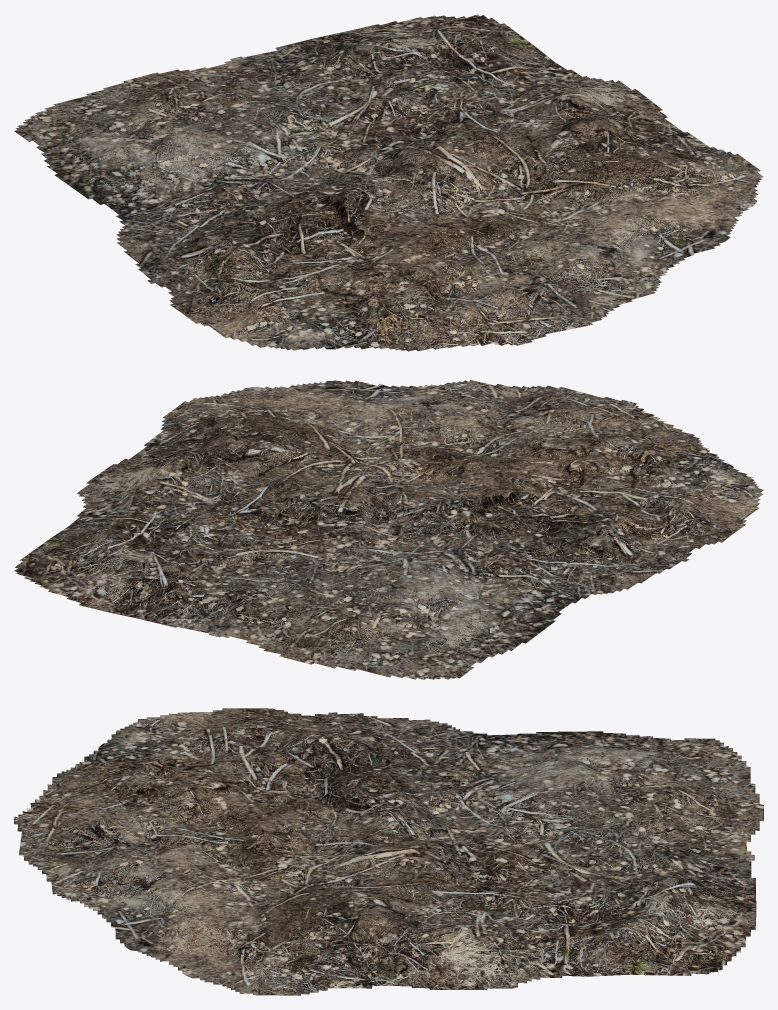
3 renders of one model, top to bottom at view 1: azimuth 30°, elevation 25°; view 2: azimuth 150°, elevation 25°; view 3: azimuth 270°, elevation 25°, orthographic. The views are drawn at different scales.
Parts seen in each view (by area): view 1: SM_FF_10; view 2: SM_FF_10; view 3: SM_FF_10.
Boxes of the visible parts, x1,y1,x2,y2 form: SM_FF_10: (14,14,763,351); SM_FF_10: (14,380,763,679); SM_FF_10: (14,708,763,995).
Bounding box in the file's own units: 451 × 23.38 × 498.
